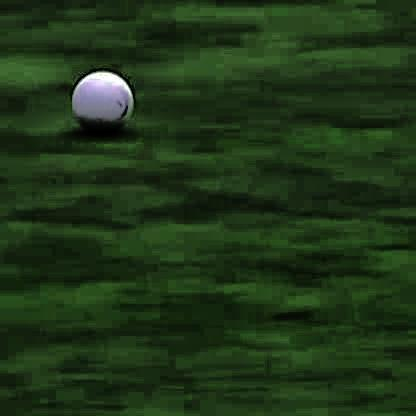golfball: (68, 64, 130, 129)
